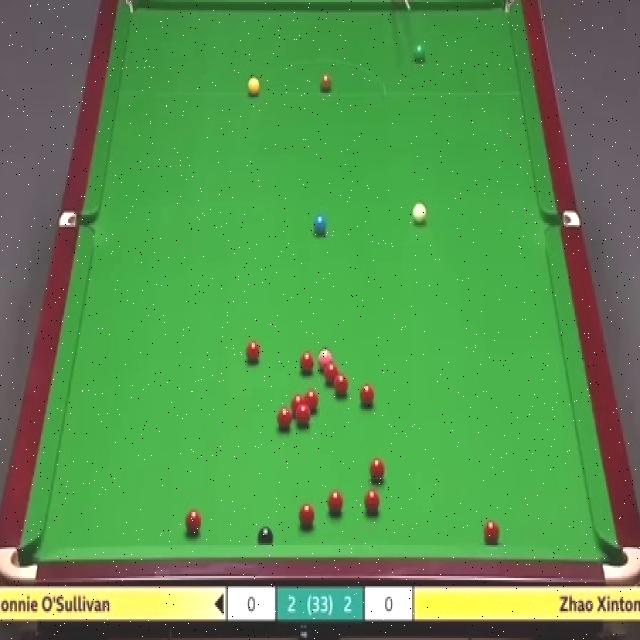black-ball: (257, 524, 274, 549)
blue-ball: (314, 216, 327, 236)
brown-ball: (319, 74, 331, 94)
green-ball: (412, 42, 428, 64)
pink-ball: (317, 347, 333, 370)
red-ball: (363, 487, 381, 516), (368, 456, 386, 484), (482, 519, 500, 546), (184, 508, 202, 533), (298, 504, 316, 528), (328, 488, 344, 515), (244, 339, 260, 365), (276, 406, 292, 431), (298, 350, 314, 374), (334, 375, 349, 400), (360, 383, 375, 408), (296, 402, 311, 426), (305, 389, 320, 412), (323, 363, 339, 382), (291, 394, 305, 412)
white-ball: (412, 201, 427, 225)
yellow-ball: (247, 74, 260, 97)
